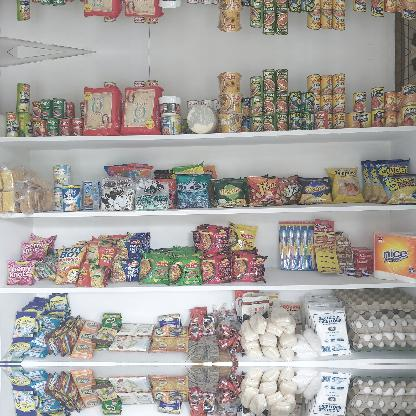Lady-s-Choice: (186, 105, 218, 133)
